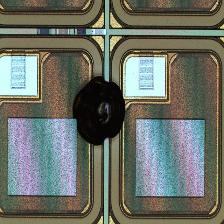PARTICLE: (70, 74, 130, 150)
